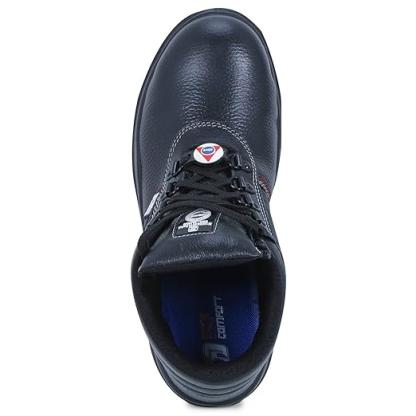bota: (128, 5, 290, 411)
